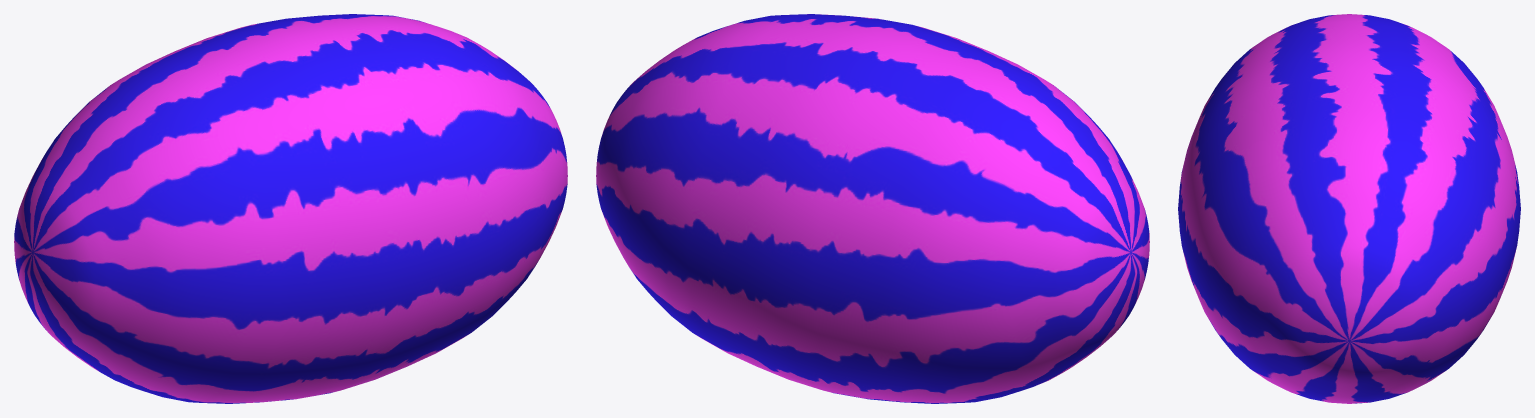
File: Plasmelon.fbx
3 renders of one model, left to right at view 1: azimuth 30°, elevation 25°; view 2: azimuth 150°, elevation 25°; view 3: azimuth 270°, elevation 25°, orthographic. The views are drawn at different scales.
Parts seen in each view (by area): view 1: plasmelon; view 2: plasmelon; view 3: plasmelon.
Boxes of the visible parts, bbox=[...] form: plasmelon: bbox=[14, 14, 567, 403]; plasmelon: bbox=[596, 14, 1149, 403]; plasmelon: bbox=[1178, 14, 1520, 403].
Bounding box in the file's own units: 144 × 89.12 × 89.13.
